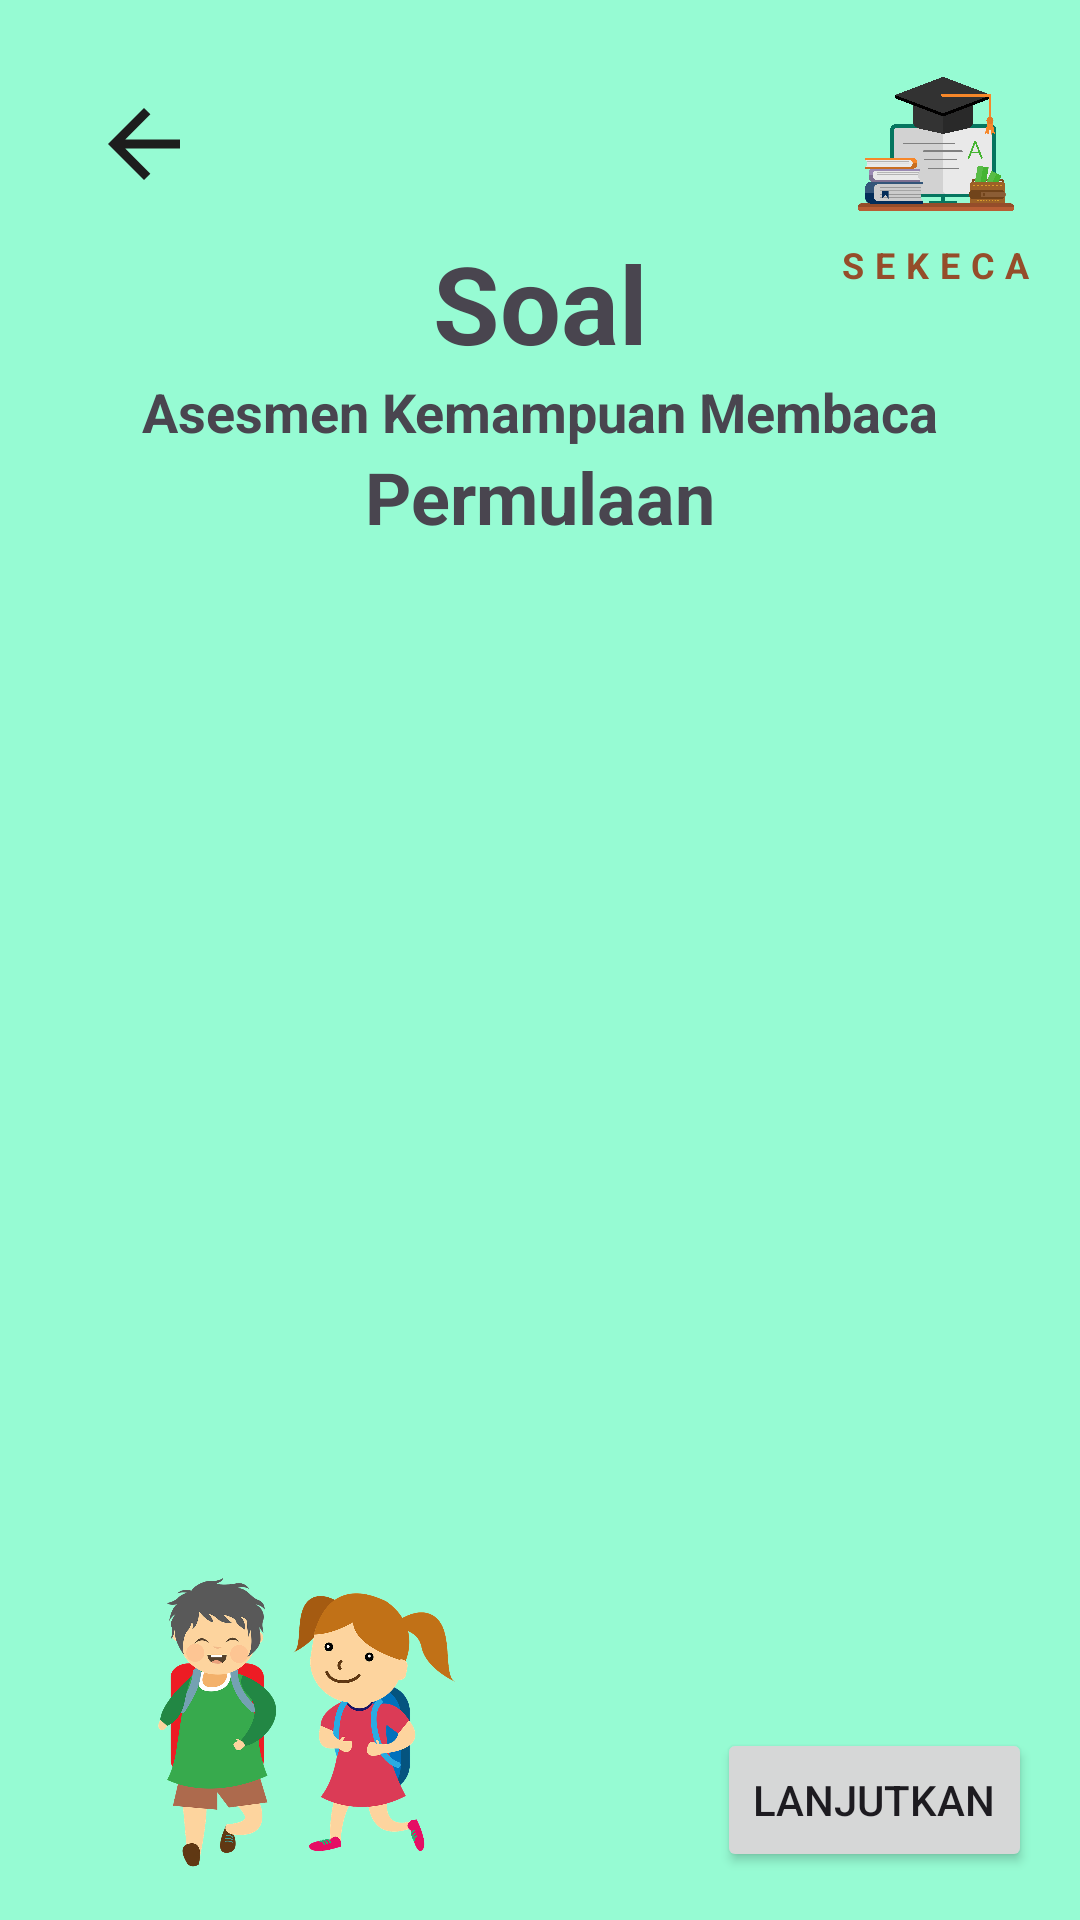

Where icons sit on this 1080*1920 app screen, as (x1, y1, x2, y2):
Gambar Anak Anak: (158, 1578, 455, 1867)
Kembali: (108, 108, 180, 180)
